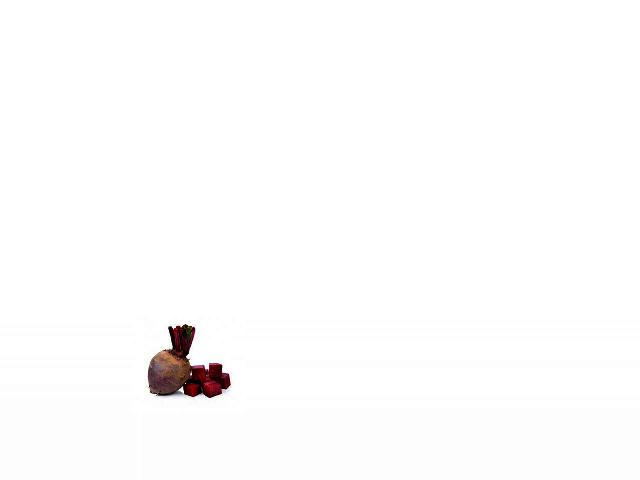beet: (148, 325, 195, 395)
